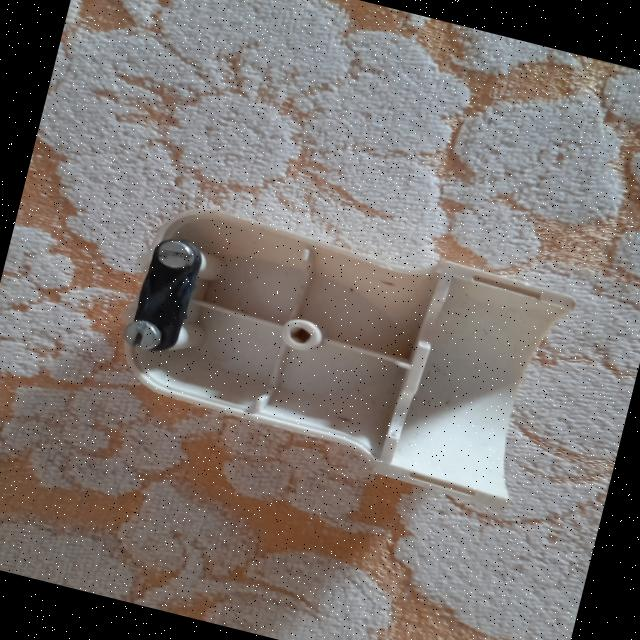Slotted: (118, 316, 163, 354), (152, 235, 196, 272)
